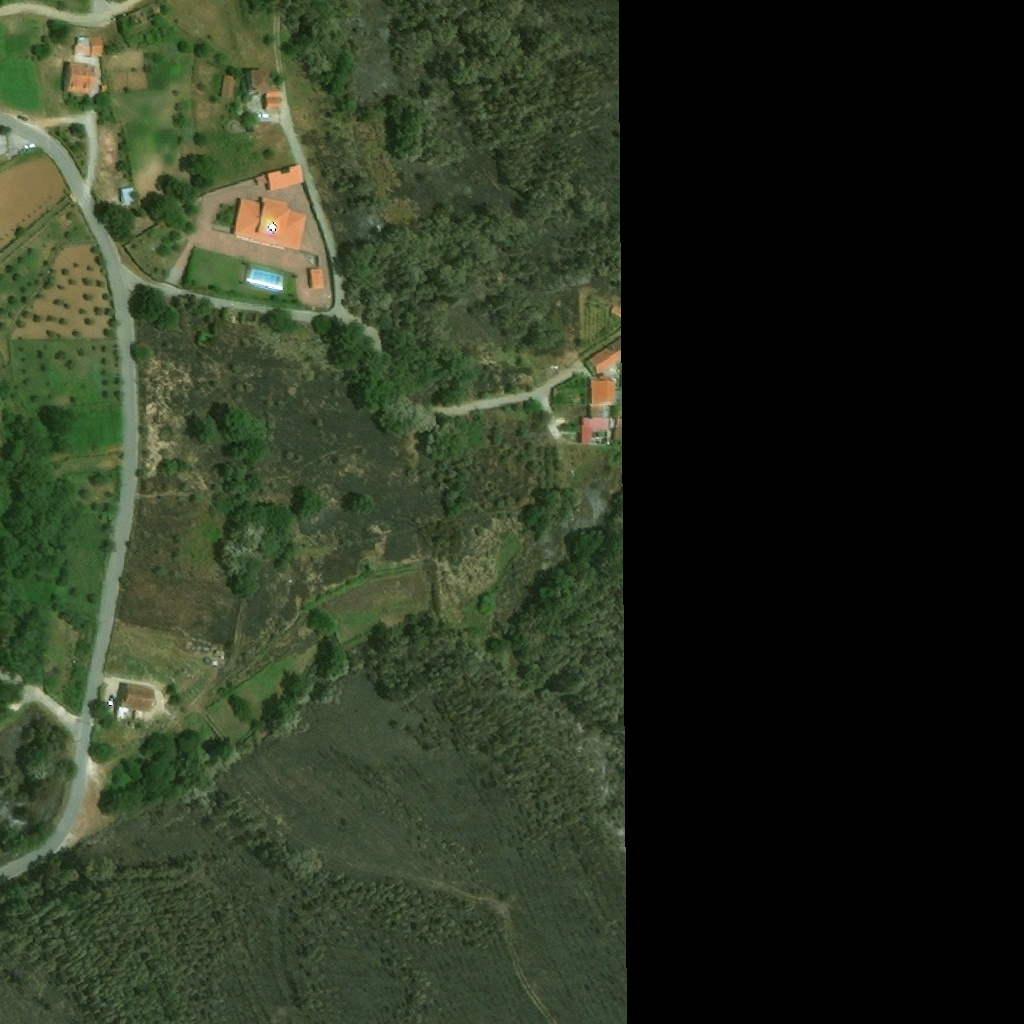0 no-damage: (232, 196, 306, 252), (584, 333, 626, 375), (244, 69, 281, 110), (577, 405, 613, 446), (243, 263, 288, 294), (254, 164, 303, 191), (587, 378, 627, 406), (64, 62, 95, 94), (118, 683, 151, 713), (73, 36, 102, 57), (219, 73, 240, 100), (308, 267, 323, 290), (613, 419, 627, 442), (118, 186, 134, 203)
4 un-classified: (117, 7, 150, 32)
